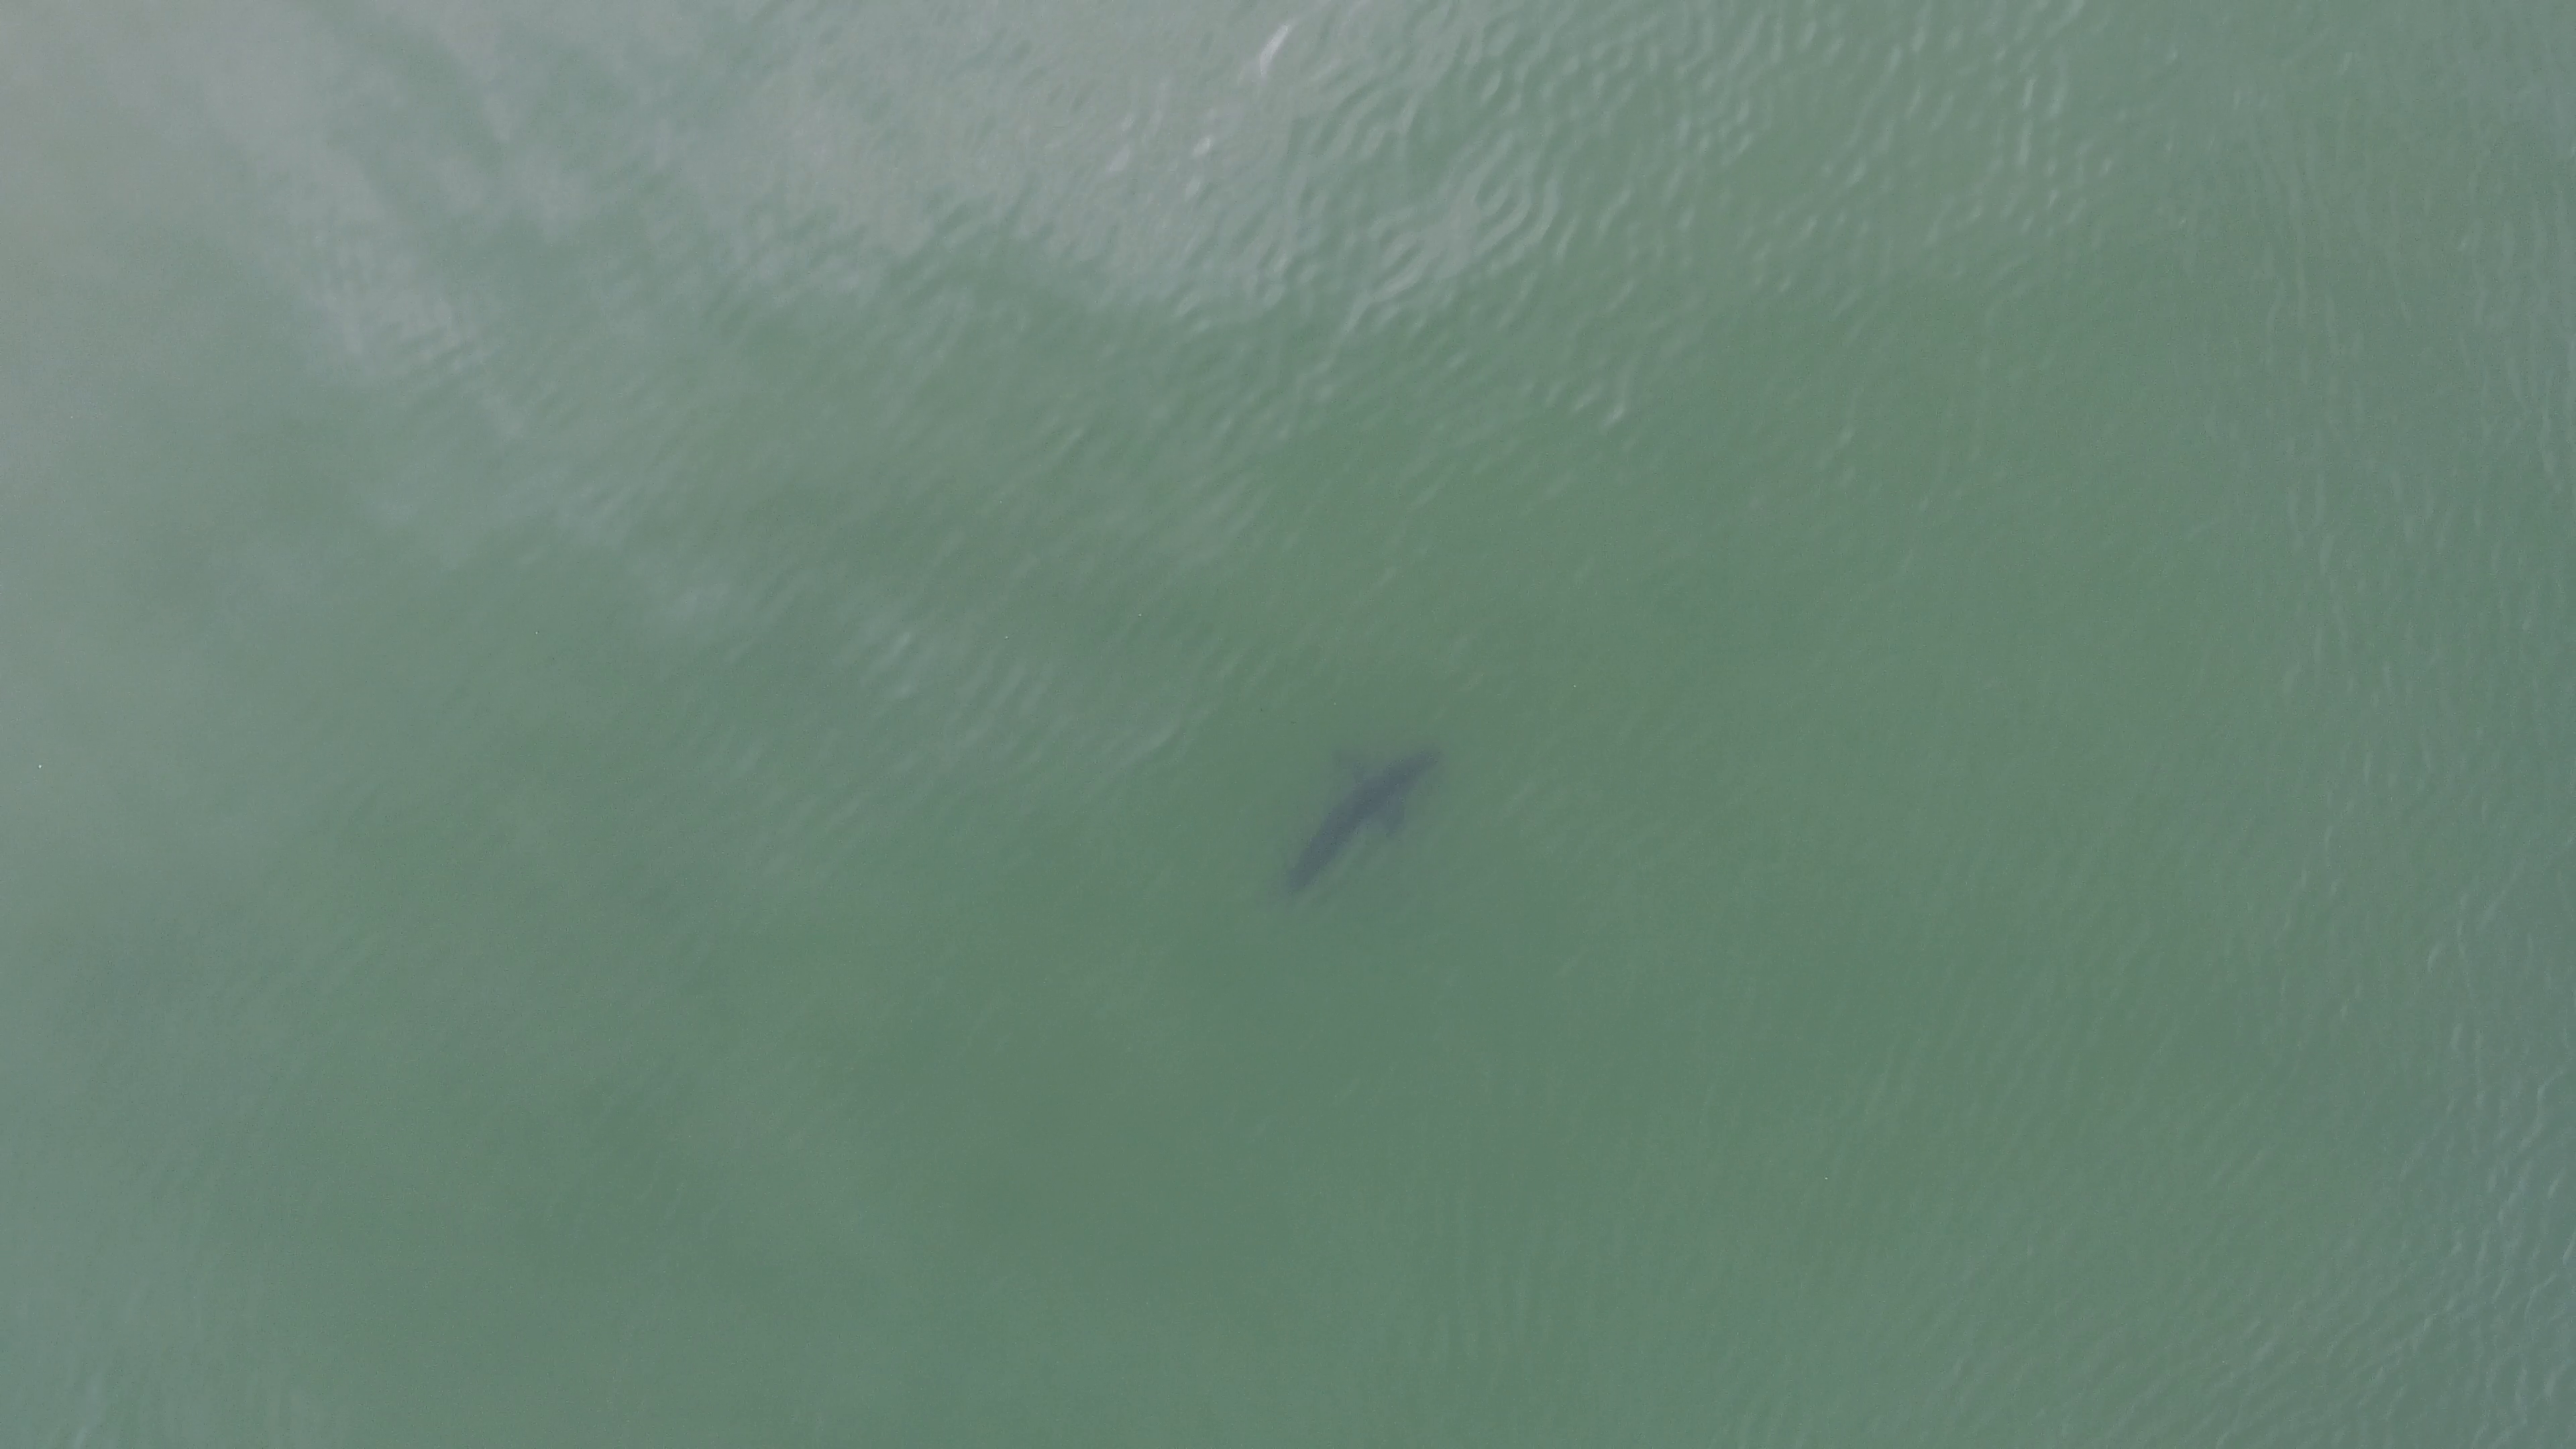shark: (1258, 740, 1507, 916)
